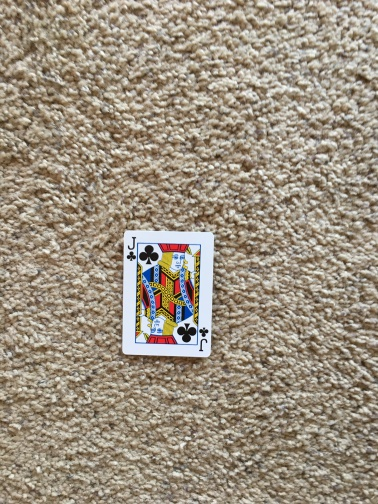jack: (121, 228, 215, 360)
